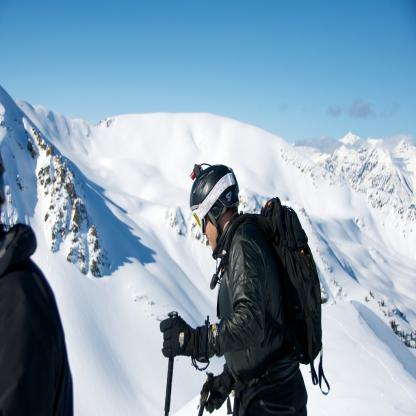Helmet: (191, 168, 240, 268)
